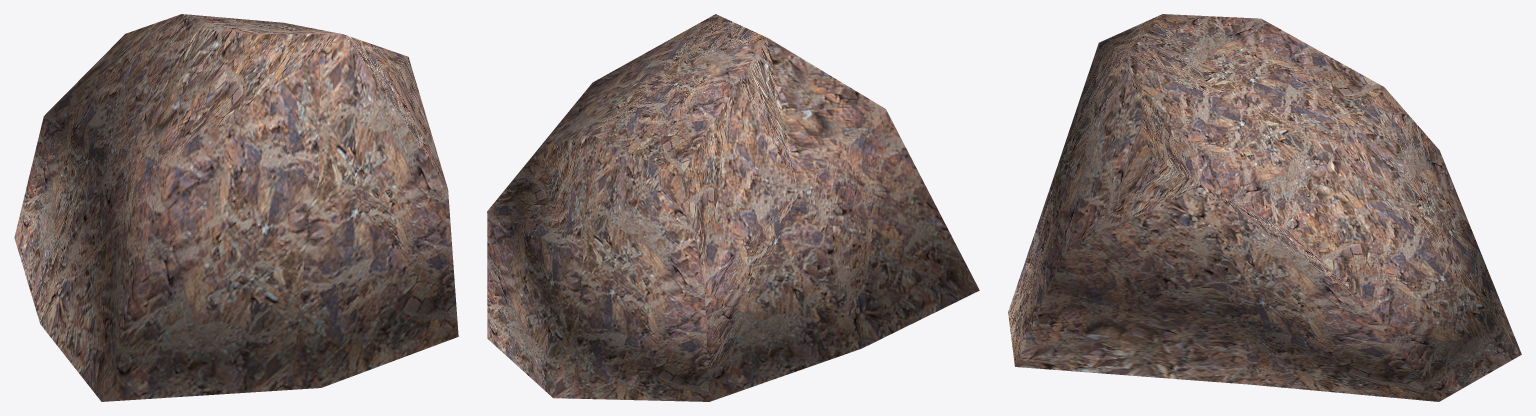
Rendered from SM_Rock_v1.fbx.
The picture shows the model from 3 angles, left to right: view 1: azimuth 30°, elevation 25°; view 2: azimuth 150°, elevation 25°; view 3: azimuth 270°, elevation 25°; orthographic projection. The views are drawn at different scales.
Visible parts, largest first — view 1: Rock; view 2: Rock; view 3: Rock.
Part boxes in pixels (box(x1,y1,x2,y2)): Rock: box(14, 14, 458, 401); Rock: box(487, 14, 979, 401); Rock: box(1008, 14, 1521, 401).
Size of the model in its own units: 4.91 by 3.41 by 5.18.
